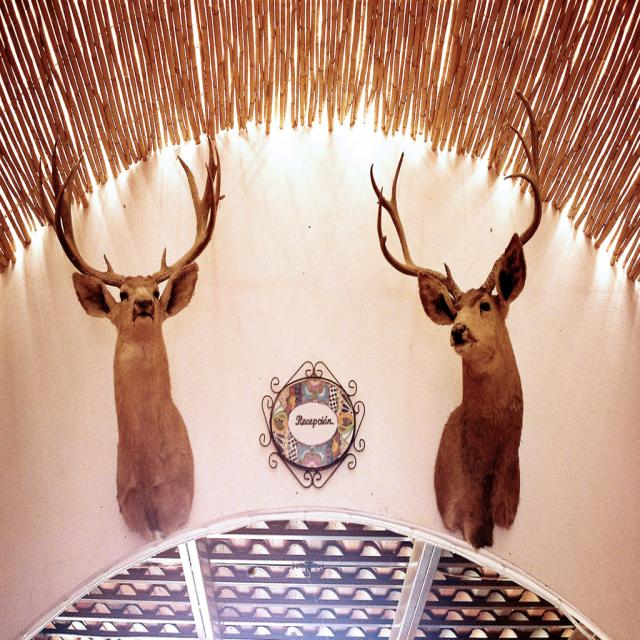Deer: (369, 88, 542, 554), (36, 135, 227, 541)
